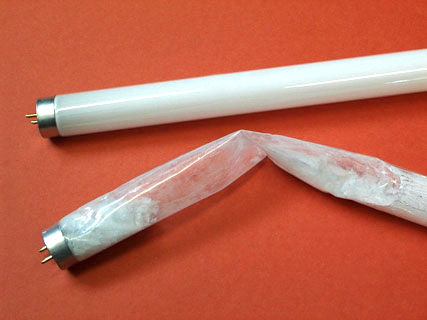Light_bulb: (36, 128, 427, 278), (25, 48, 427, 143)
